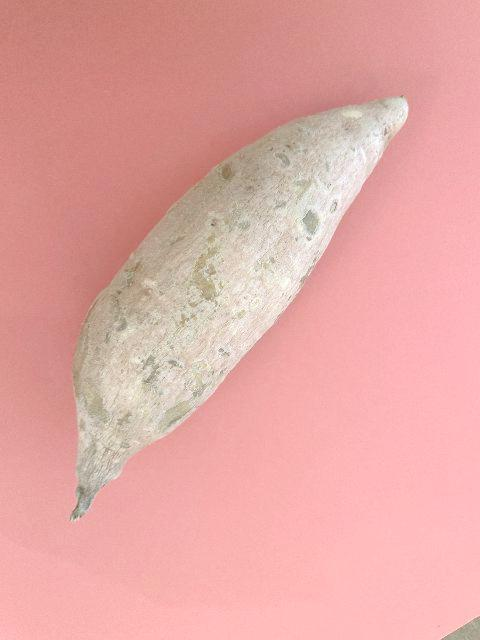sweetpotato: (66, 91, 410, 525)
